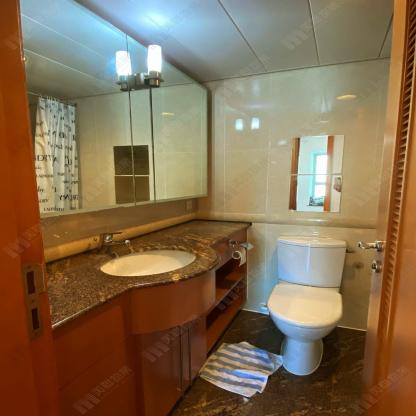Faucet: (91, 226, 132, 252)
Toilet: (248, 229, 362, 382)
Toilet Sink: (71, 236, 221, 286)
